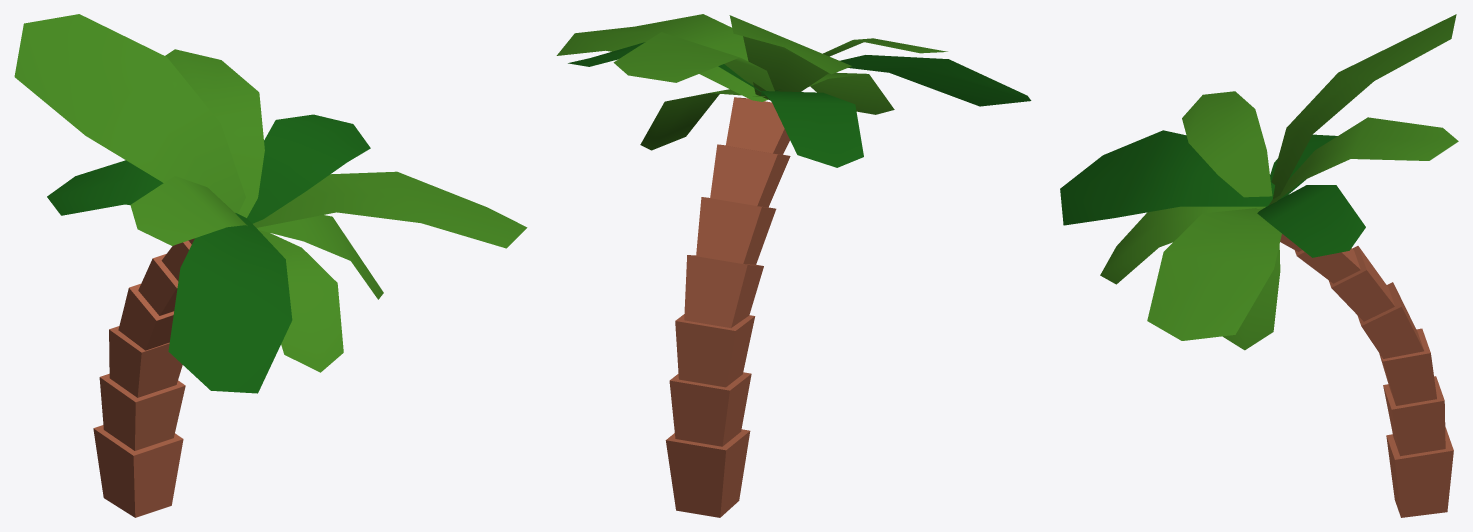
Rendered from L2Palm.fbx.
3 renders of one model, left to right at view 1: azimuth 30°, elevation 25°; view 2: azimuth 150°, elevation 25°; view 3: azimuth 270°, elevation 25°, orthographic. The views are drawn at different scales.
Parts seen in each view (by area): view 1: Palmera; view 2: Palmera; view 3: Palmera.
Boxes of the visible parts, x1,y1,x2,y2 form: Palmera: [14, 14, 527, 517]; Palmera: [556, 14, 1031, 517]; Palmera: [1060, 14, 1458, 517].
Bounding box in the file's own units: 13.72 × 15.94 × 12.78.
